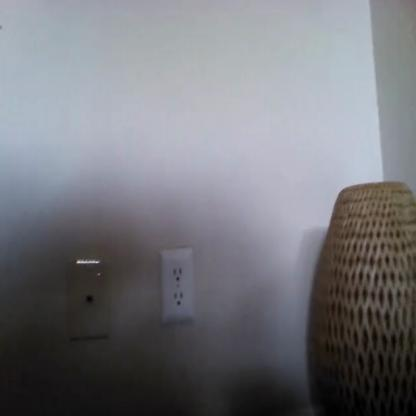OUTLET: (160, 247, 194, 320)
